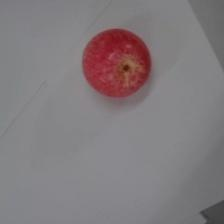red: (80, 27, 152, 99)
